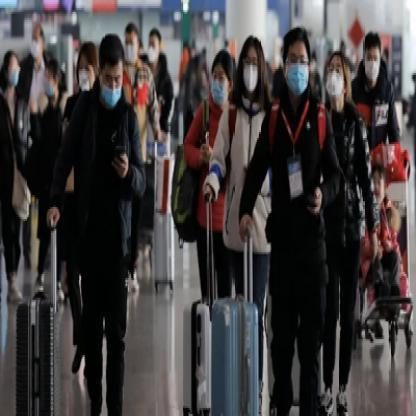with_mask: (286, 49, 309, 97), (325, 59, 345, 101), (100, 71, 122, 106), (209, 67, 226, 105), (242, 53, 258, 93), (364, 51, 380, 79), (77, 61, 91, 91), (123, 34, 135, 65), (8, 59, 19, 87), (43, 73, 54, 97), (29, 34, 40, 57), (147, 38, 157, 61)
without_mask: (371, 174, 384, 205)
